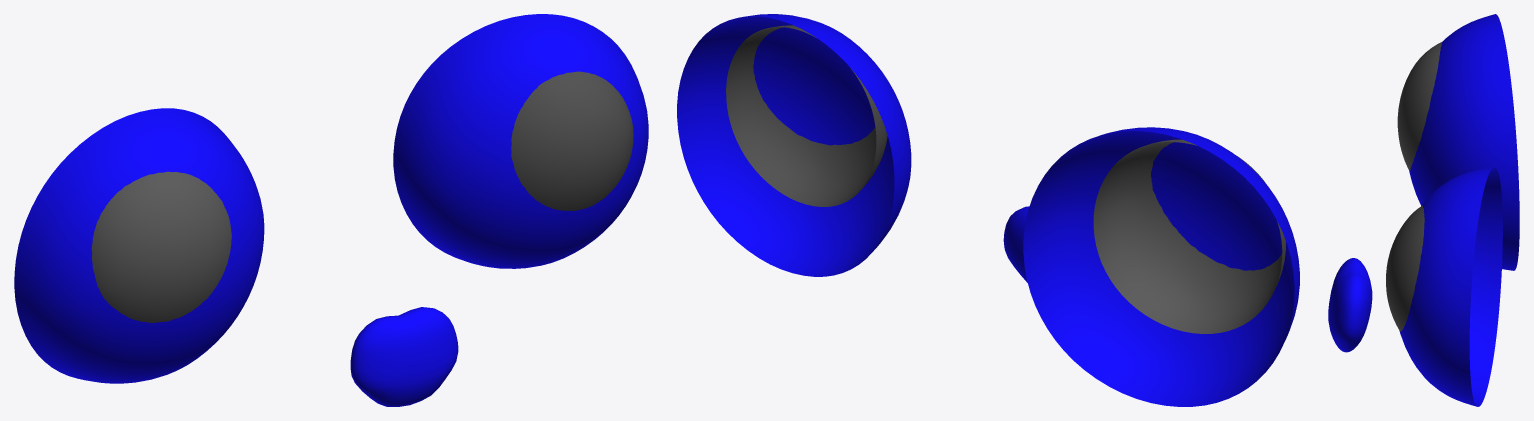
The model's file is yeuxNez-singe-blue.gltf.
The picture shows the model from 3 angles, left to right: view 1: azimuth 30°, elevation 25°; view 2: azimuth 150°, elevation 25°; view 3: azimuth 270°, elevation 25°; orthographic projection. The views are drawn at different scales.
Visible parts, largest first — view 1: cercle oeil droit; view 2: cercle oeil droit; view 3: cercle oeil droit.
Part boxes in pixels (x1,y1,x2,y2): cercle oeil droit: [14, 14, 648, 406]; cercle oeil droit: [677, 14, 1299, 406]; cercle oeil droit: [1328, 14, 1519, 406].
Size of the model in its own units: 1.45 by 0.6328 by 0.4384.
